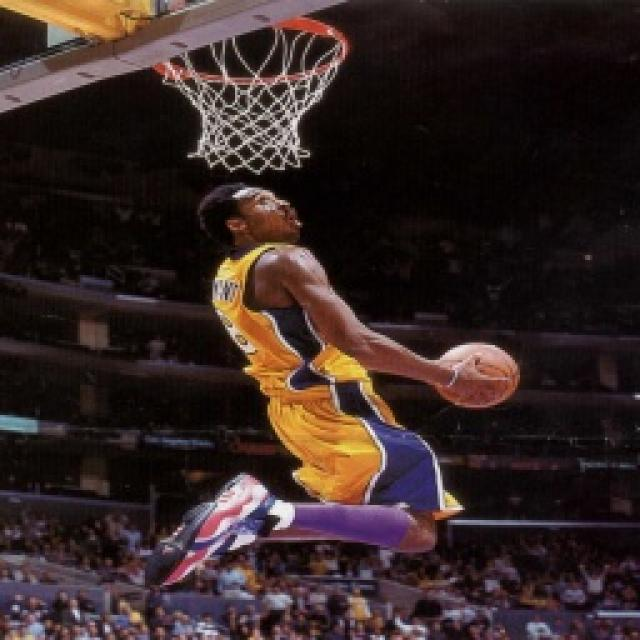rim: (433, 341, 524, 411)
